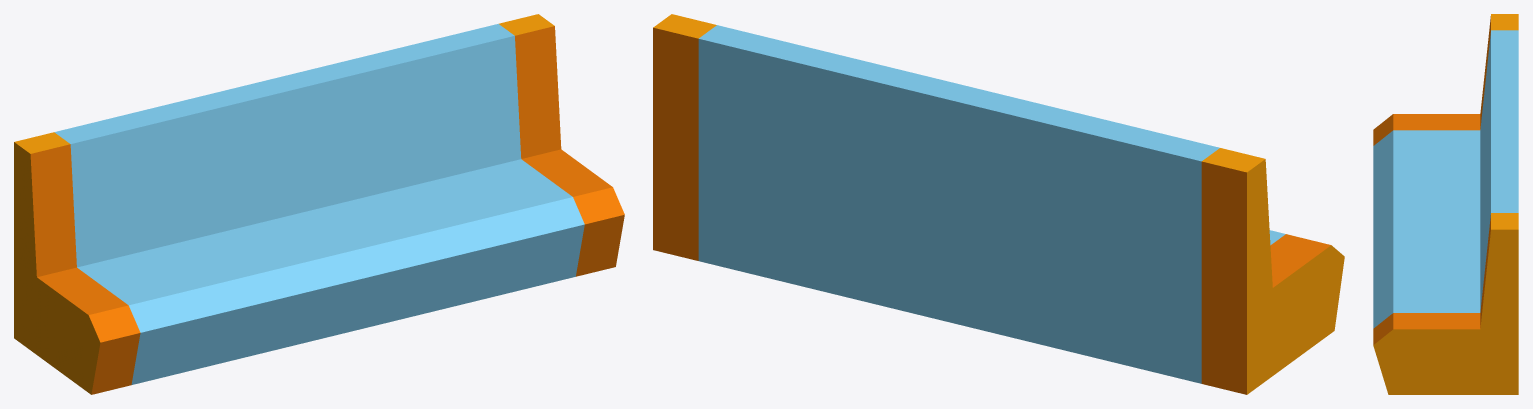
The model's file is Big_Chair_lv2.fbx.
3 renders of one model, left to right at view 1: azimuth 30°, elevation 25°; view 2: azimuth 150°, elevation 25°; view 3: azimuth 270°, elevation 25°, orthographic. The views are drawn at different scales.
Parts seen in each view (by area): view 1: Big_Chair_lv2; view 2: Big_Chair_lv2; view 3: Big_Chair_lv2.
Part boxes in pixels (left/top/right/bottom): Big_Chair_lv2: left=14, top=14, right=624, bottom=394; Big_Chair_lv2: left=653, top=14, right=1344, bottom=394; Big_Chair_lv2: left=1373, top=14, right=1518, bottom=394.
Size of the model in its own units: 419 by 150 by 120.
